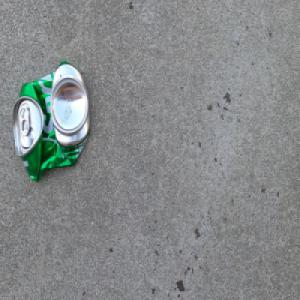SodaCan: (12, 59, 90, 183)
